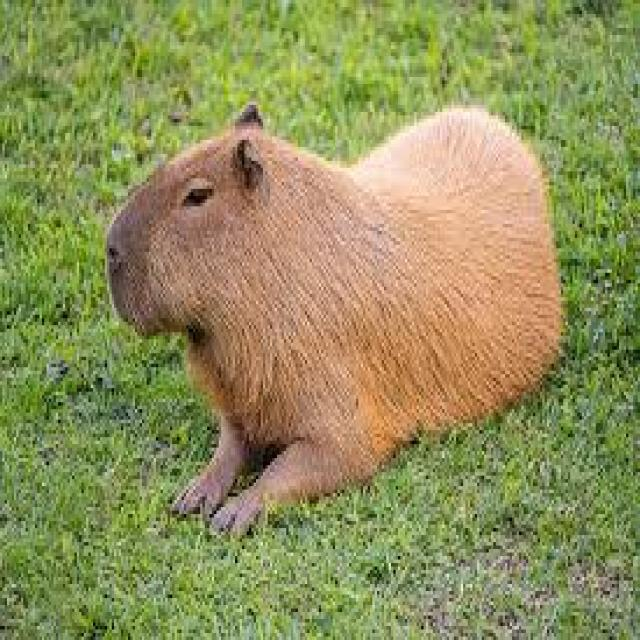rat: (102, 98, 566, 539)
